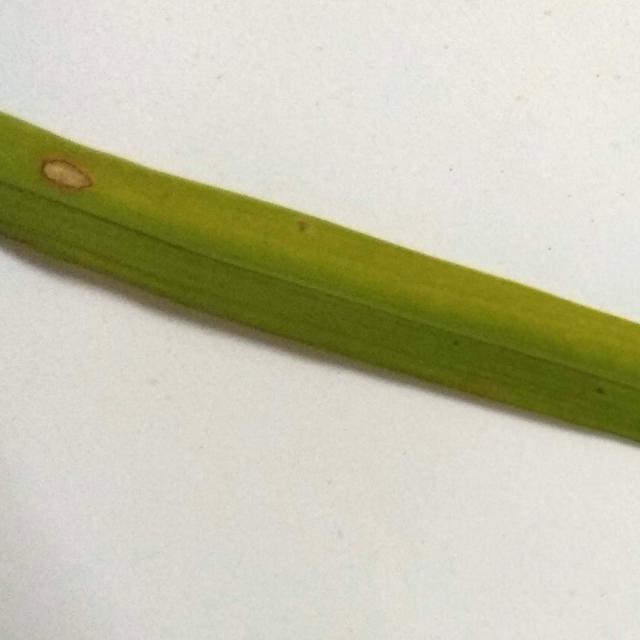Leaf blast: (2, 106, 640, 463)
